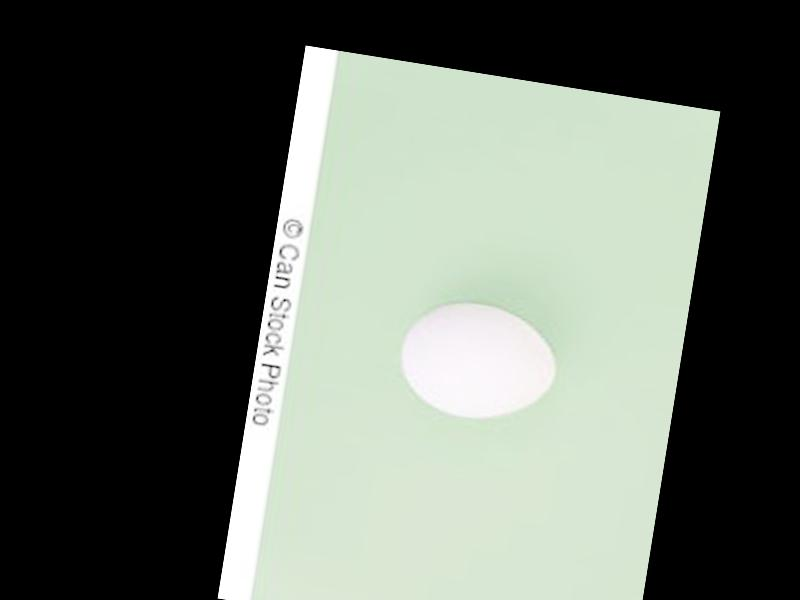Eggs: (394, 294, 563, 428)
